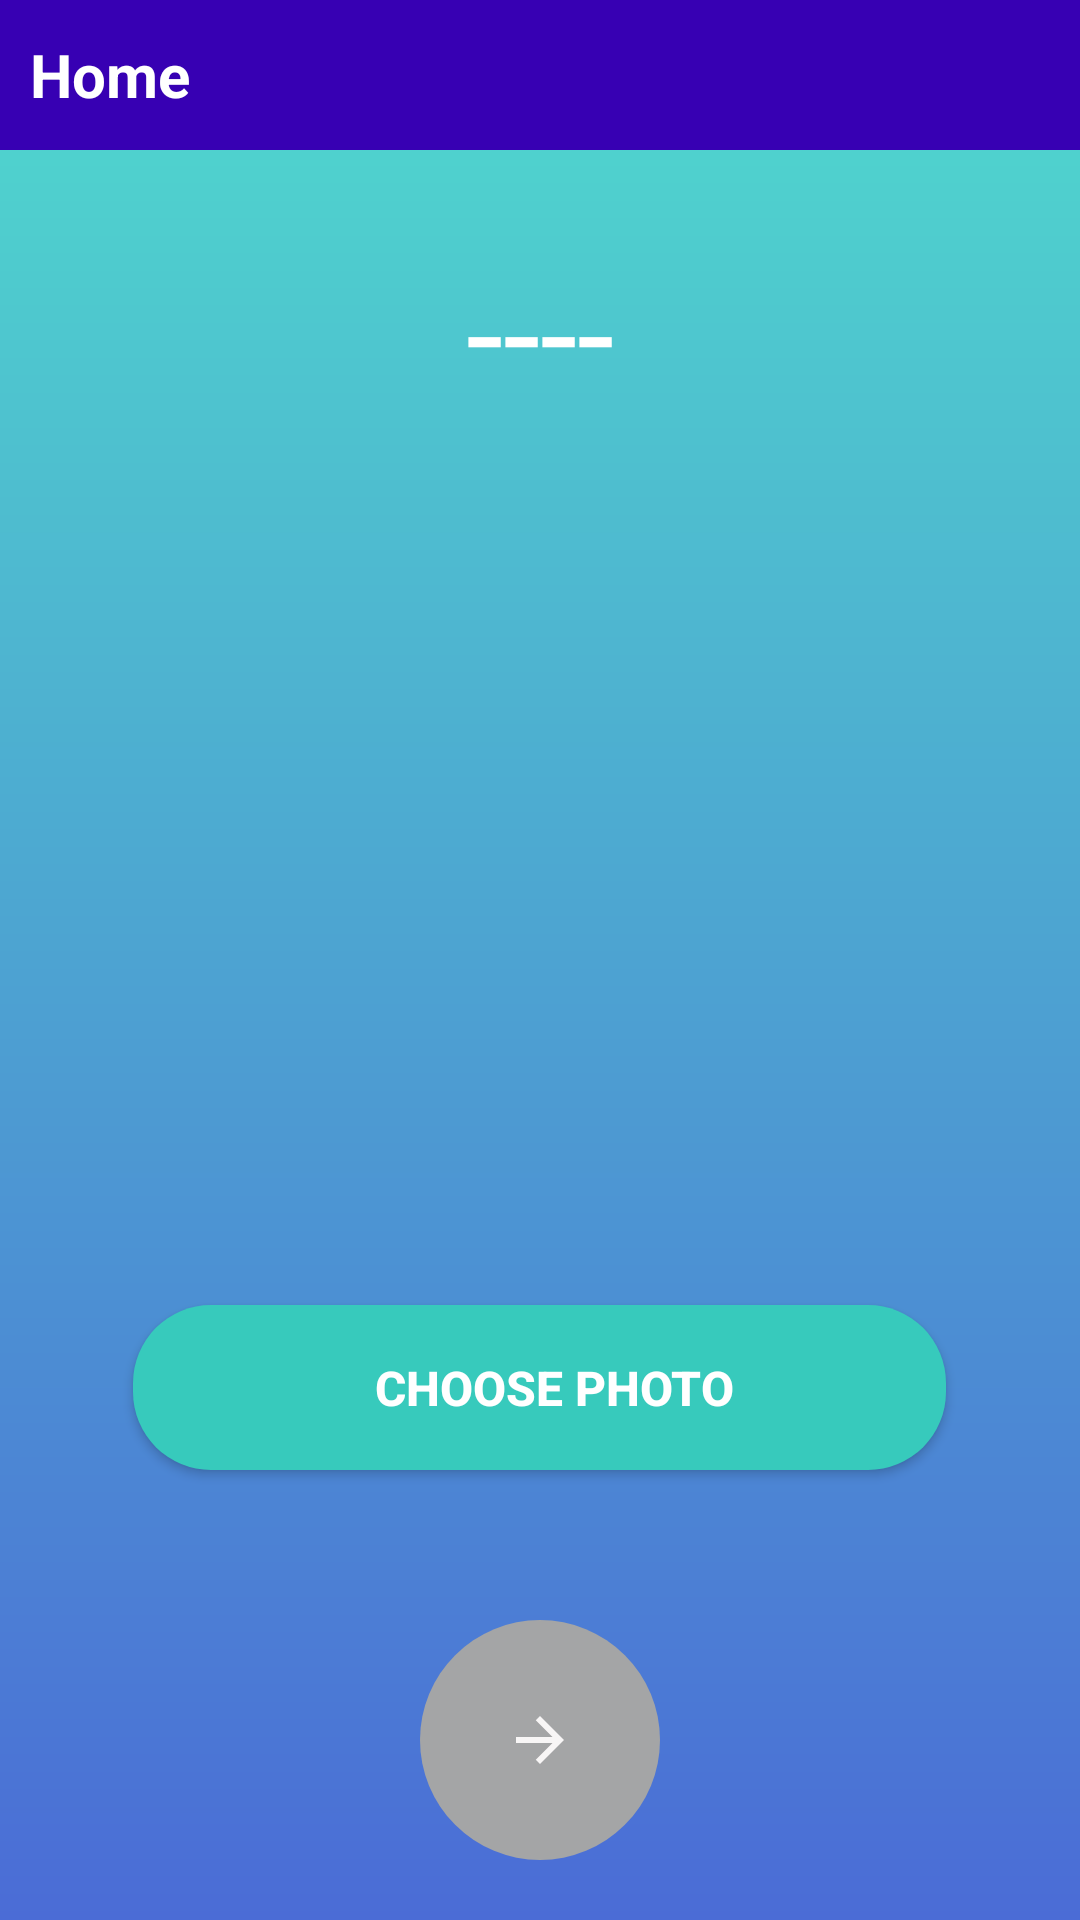

Named icons in this screenshot (1080px x 1920px) and their bounding boxes, [left=x1, top=y1, right=x2, bottom=y2]:
arrow forward: [left=420, top=1620, right=660, bottom=1860]
